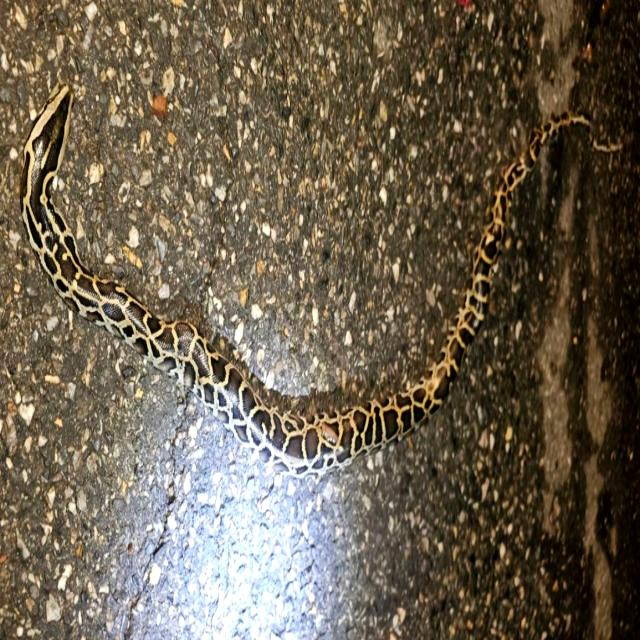Python bivittatus: (20, 84, 590, 475)
